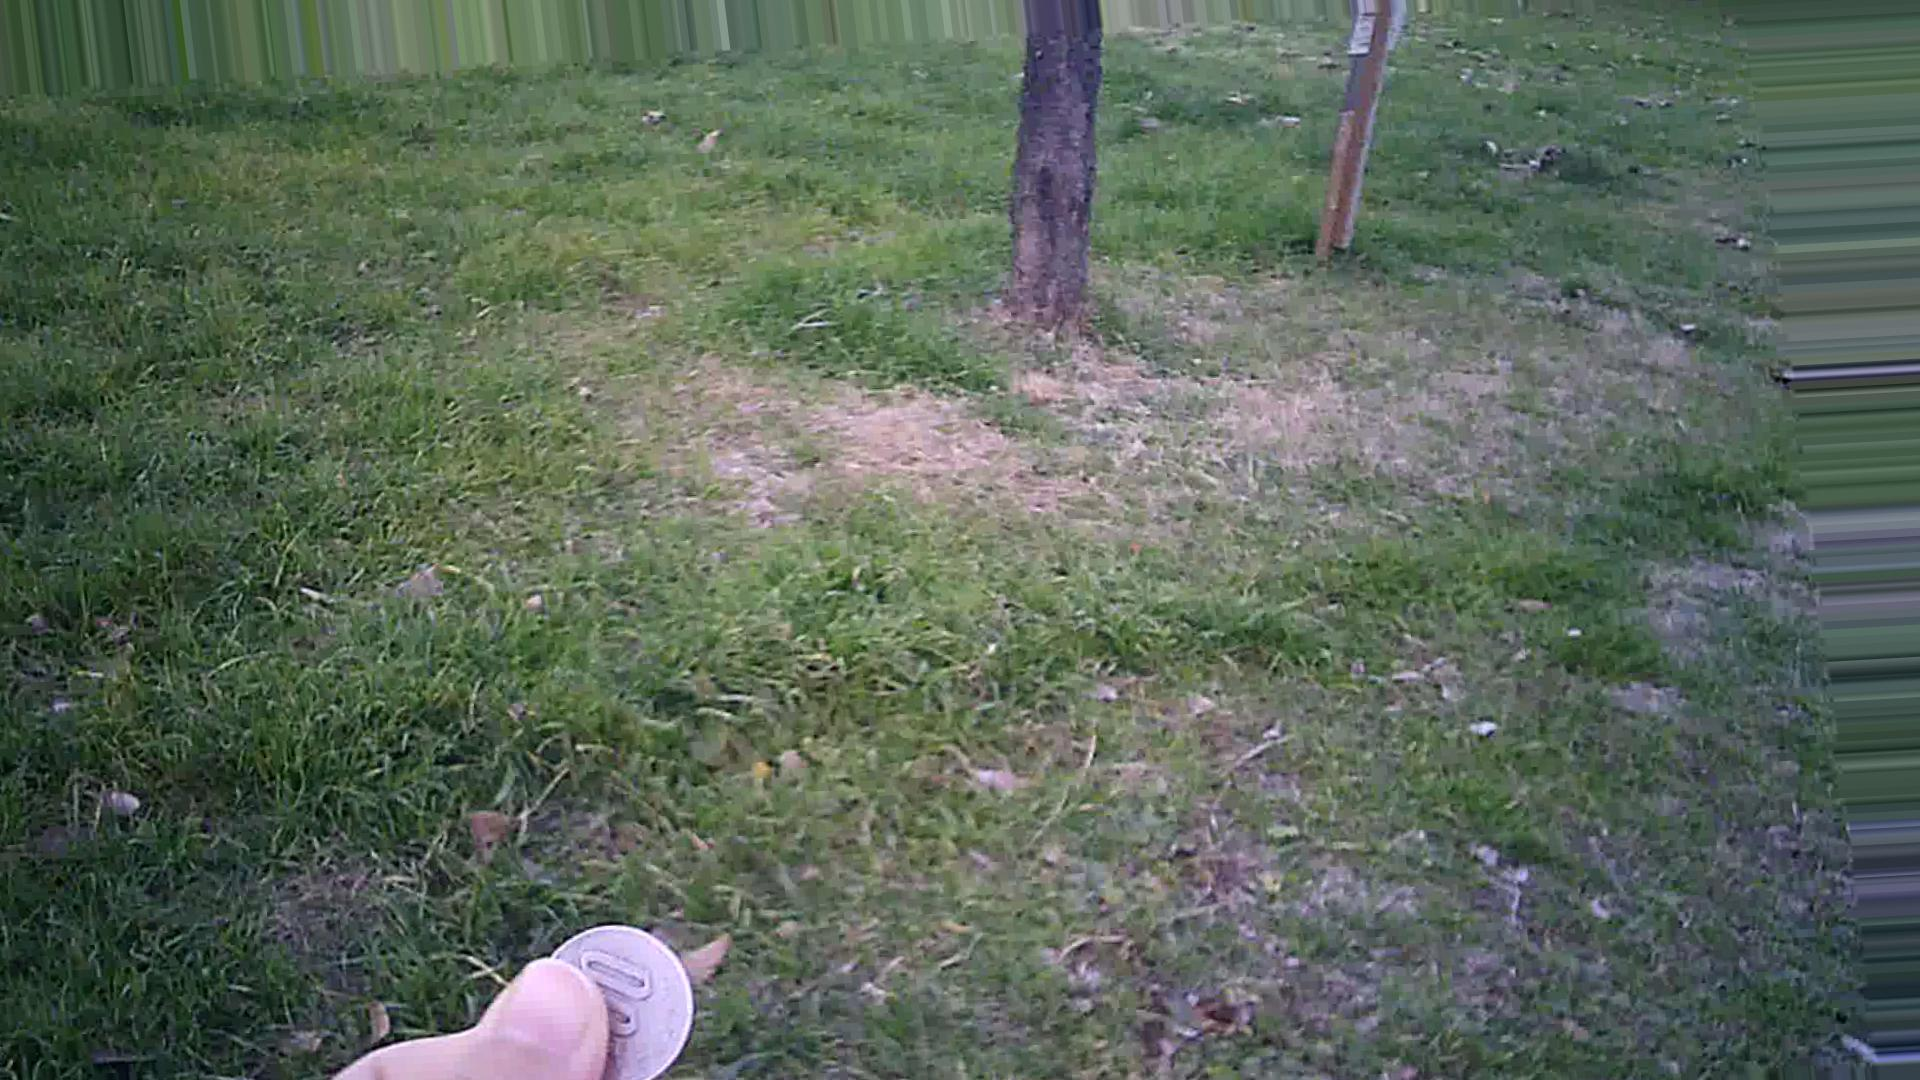100 Yen: (529, 920, 709, 1079)
